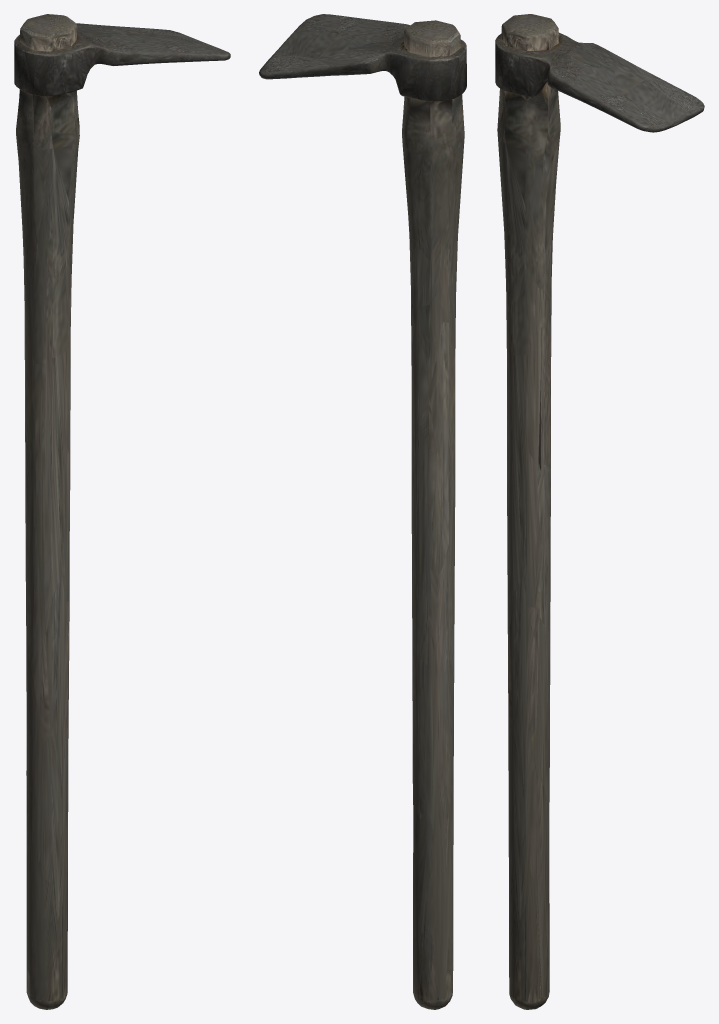
Rendered from hoe.glb.
3 renders of one model, left to right at view 1: azimuth 30°, elevation 25°; view 2: azimuth 150°, elevation 25°; view 3: azimuth 330°, elevation 25°, orthographic.
Parts seen in each view (by area): view 1: Mesh_0; view 2: Mesh_0; view 3: Mesh_0.
Part boxes in pixels (x1,y1,x2,y2): Mesh_0: [14, 14, 230, 1009]; Mesh_0: [259, 14, 466, 1009]; Mesh_0: [495, 14, 704, 1009].
Size of the model in its own units: 0.3169 by 1.6 by 0.1778.
1 material, 1 textured.
